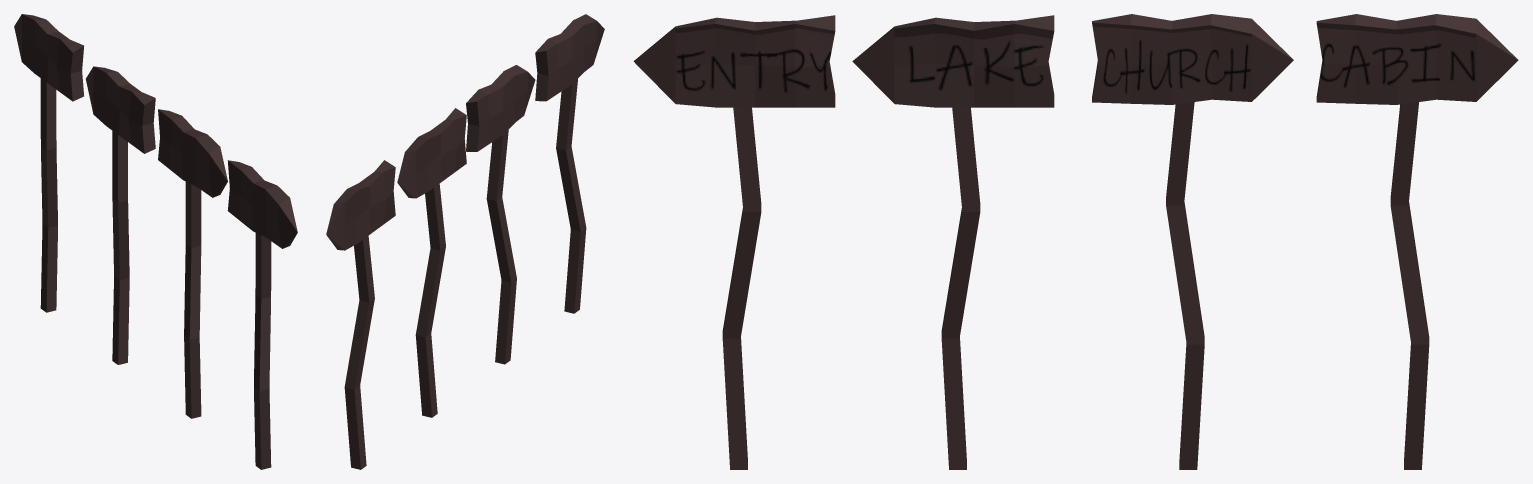
The model's file is Cartel.fbx.
3 views of the same model, side by side, from view 1: azimuth 30°, elevation 25°; view 2: azimuth 150°, elevation 25°; view 3: azimuth 270°, elevation 25° (orthographic). The views are drawn at different scales.
Visible parts, largest first — view 1: Cube, Cube.003, Cube.002, Cube.001; view 2: Cube.001, Cube.002, Cube, Cube.003; view 3: Cube, Cube.003, Cube.002, Cube.001.
Boxes of the visible parts, x1,y1,x2,y2 form: Cube: (158,109,227,418); Cube.003: (227,160,297,469); Cube.002: (14,14,83,312); Cube.001: (86,66,155,364); Cube.001: (397,108,466,417); Cube.002: (326,160,395,469); Cube: (466,65,535,364); Cube.003: (535,14,604,313); Cube: (852,15,1054,469); Cube.003: (633,15,835,469); Cube.002: (1316,14,1518,469); Cube.001: (1092,14,1293,469).
Size of the model in its own units: 13.81 by 192 by 344.
